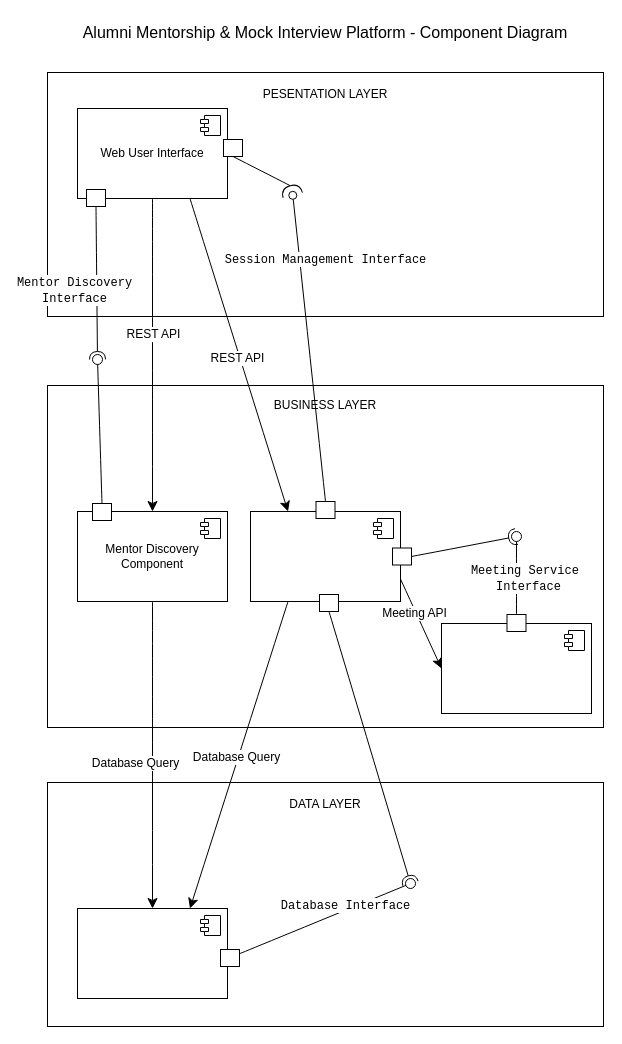
This 622x1044 diagram has some shape labels left out. The centre of each missing label's shape, as x and y in pixels:
"Meeting Service Component" goes at (516,668).
"Platform Database" goes at (152,953).
"Session Manager Component" goes at (325,556).
